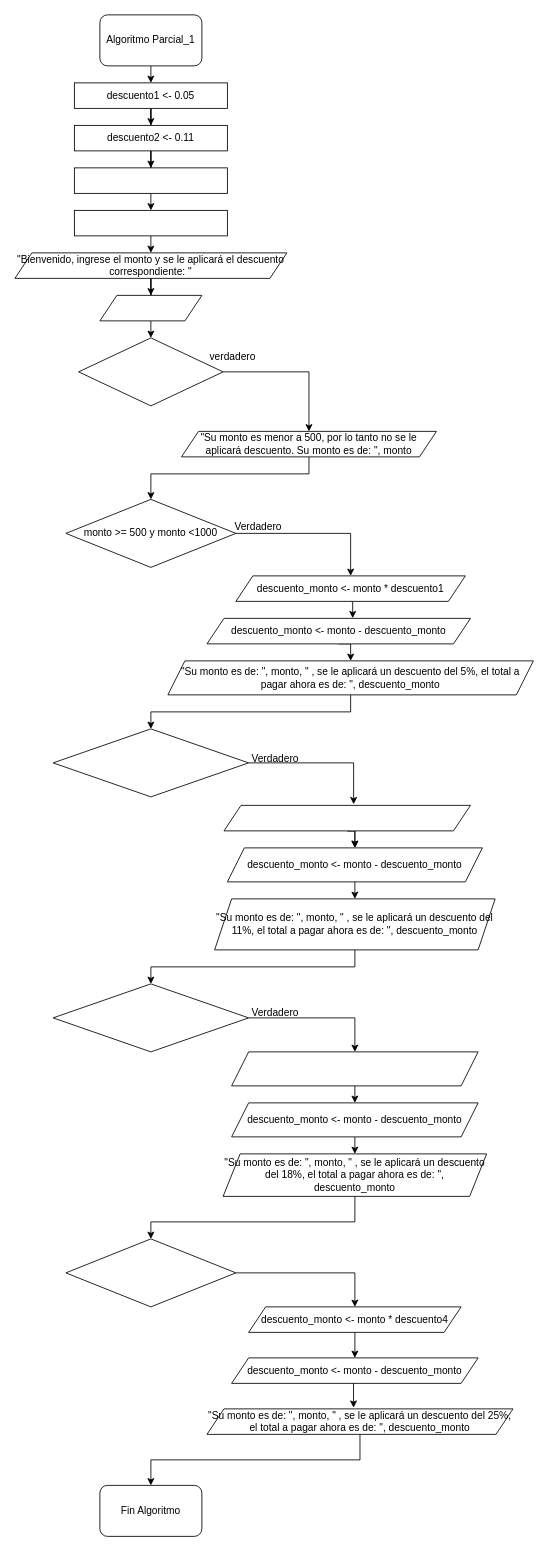
Some shapes in this 548 by 1551 pixel diagram are drawn without their labels. The centre of each missing label's shape, as x and y in pixels:
"descuento3 <- 0.18" belongs at pixel 150 180.
"descuento4 <- 0.25" belongs at pixel 150 223.
"descuento_monto <- monto * descuento2" belongs at pixel 346 818.
"descuento_monto <- monto * descuento3" belongs at pixel 354 1068.
"monto" belongs at pixel 150 308.
"monto < 500" belongs at pixel 150 371.
"monto > 15000" belongs at pixel 150 1272.
"monto >= 1000 y monto < 7000" belongs at pixel 150 762.
"monto >= 7000 y monto <= 15000" belongs at pixel 150 1017.
